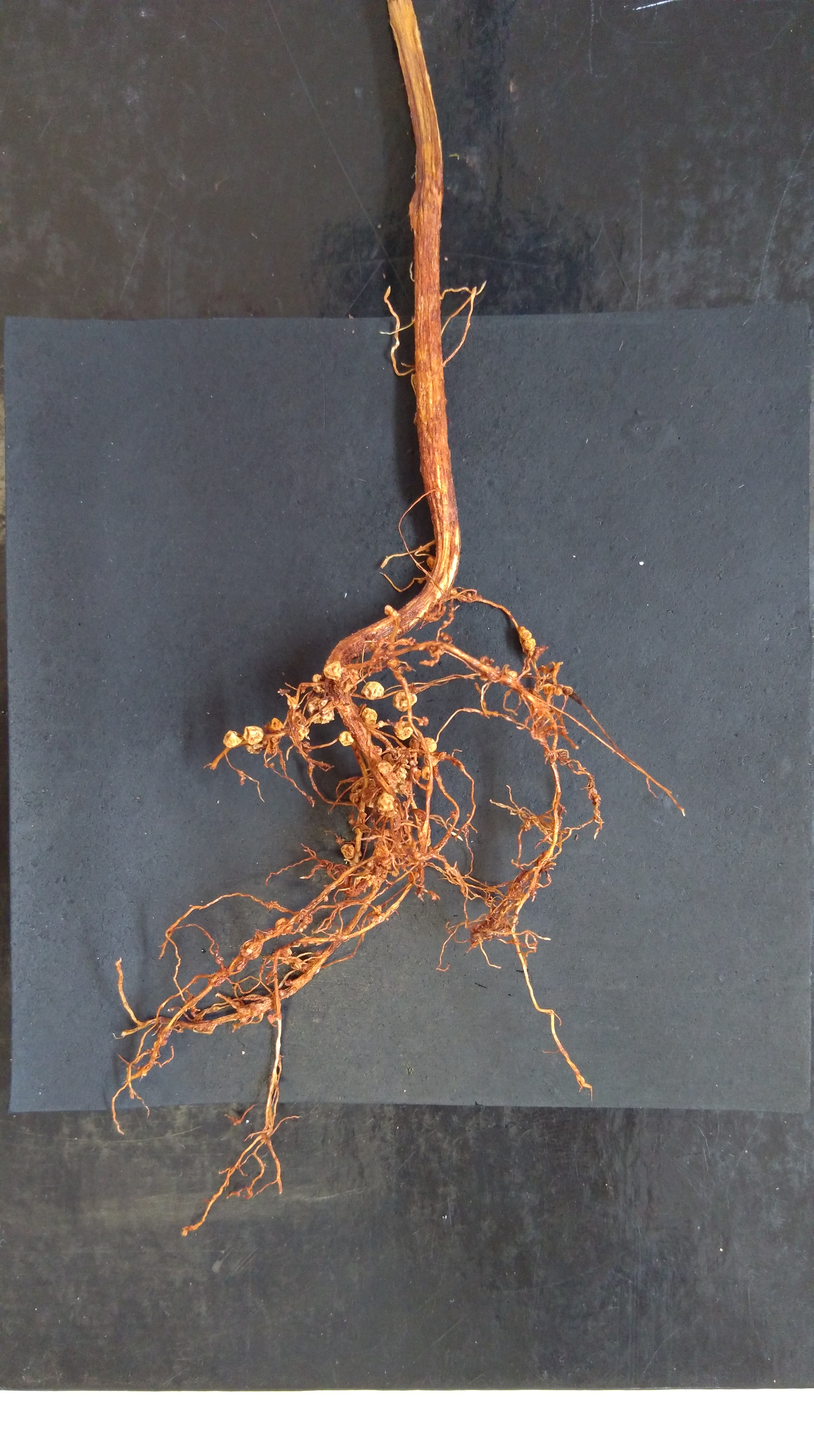nodule: (306, 695, 336, 725), (391, 690, 418, 712), (360, 680, 385, 701), (221, 728, 245, 748), (243, 725, 265, 745), (322, 659, 342, 681), (392, 722, 414, 741), (273, 916, 293, 936), (376, 791, 395, 812), (360, 706, 379, 726), (375, 759, 394, 777), (420, 736, 438, 753), (243, 742, 264, 756), (338, 730, 355, 747), (340, 842, 356, 860), (296, 722, 311, 741), (422, 752, 440, 767), (517, 625, 533, 641), (382, 603, 399, 618), (385, 655, 402, 670), (521, 637, 537, 651), (394, 768, 407, 785), (425, 555, 438, 572), (375, 845, 390, 858), (270, 717, 284, 730), (478, 655, 494, 666), (420, 765, 431, 780), (408, 737, 420, 750), (562, 684, 574, 696), (311, 673, 323, 684), (552, 686, 564, 697), (507, 670, 518, 679), (266, 1014, 275, 1025), (449, 810, 456, 820), (449, 588, 458, 595), (442, 634, 450, 641), (323, 895, 330, 903), (442, 620, 449, 626), (466, 592, 472, 598), (439, 631, 445, 637), (298, 927, 303, 933), (303, 924, 308, 930)
